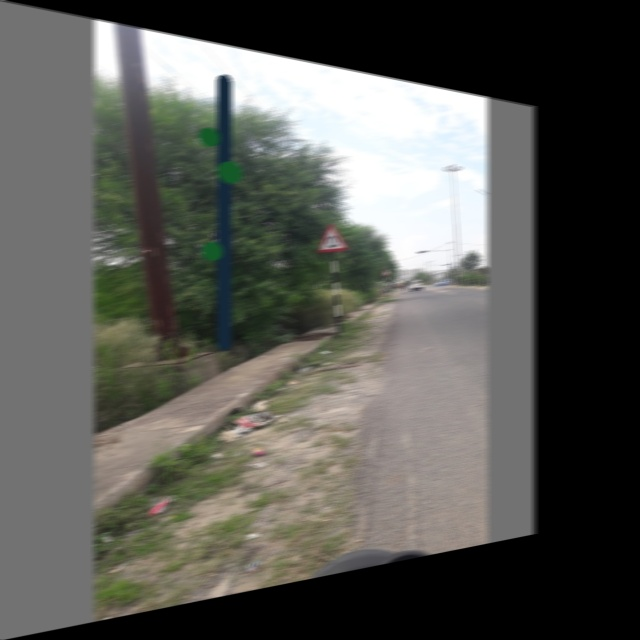Round_About: (313, 216, 354, 254)
